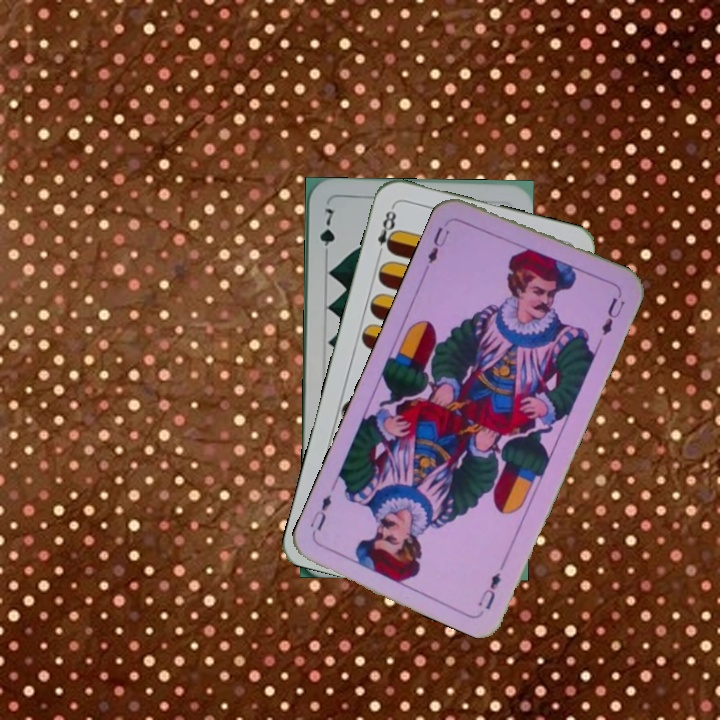E8: (373, 202, 400, 260)
EU: (423, 217, 452, 266), (473, 568, 504, 613)
G7: (315, 204, 338, 261)
